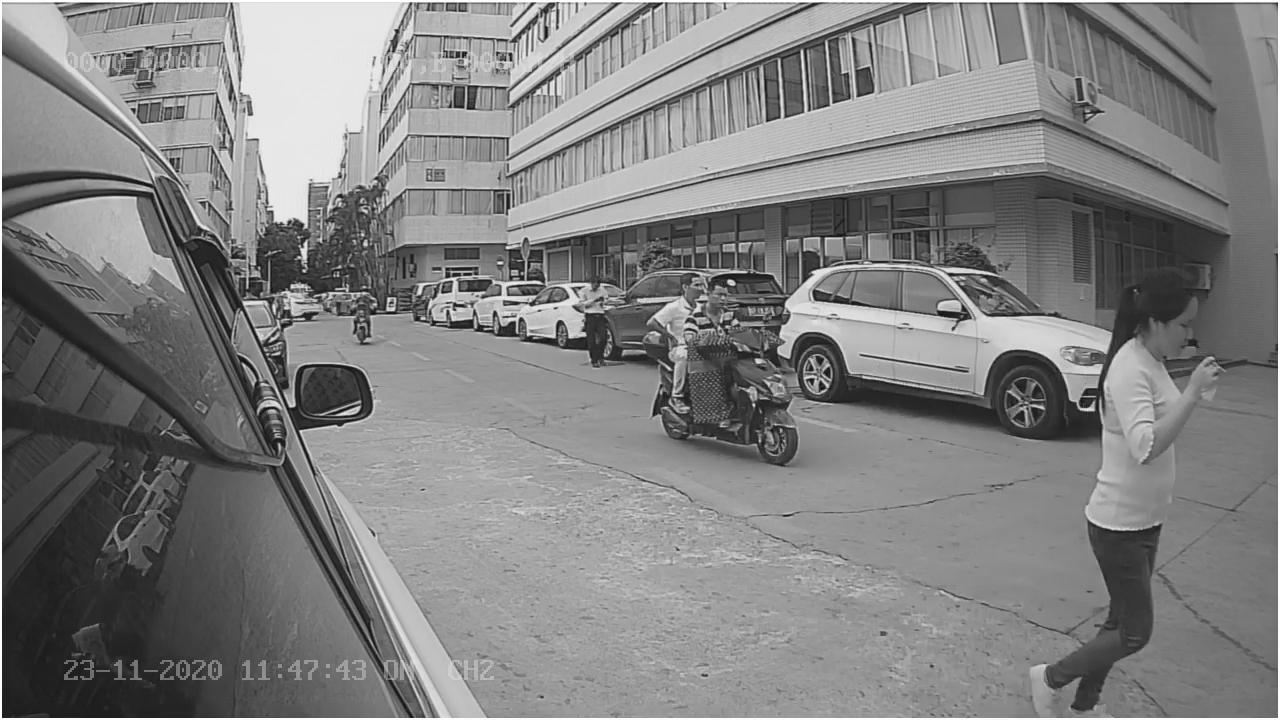person: (1077, 270, 1226, 486)
